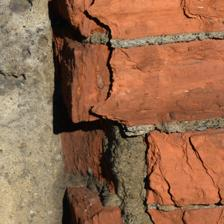Crack: (0, 4, 108, 99), (32, 24, 95, 135)
